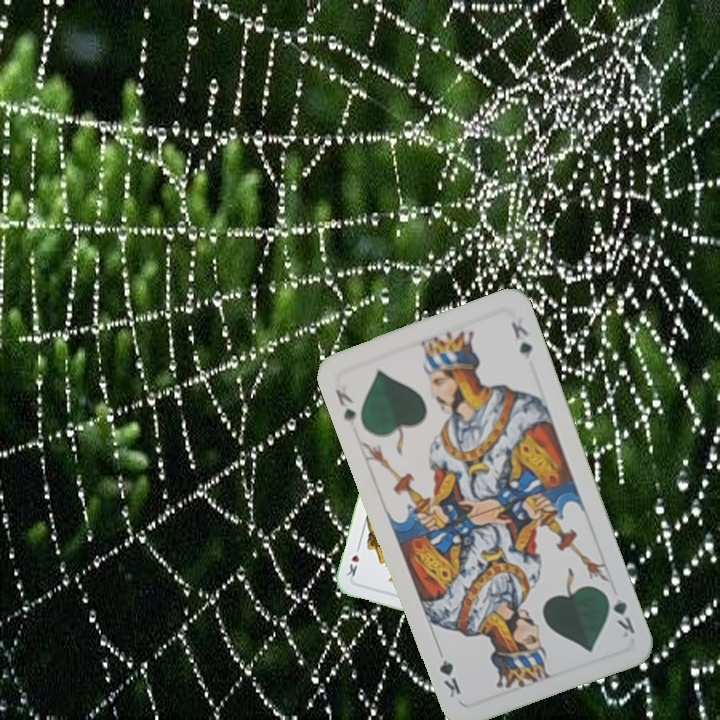GK: (601, 587, 638, 640), (331, 385, 359, 425)
